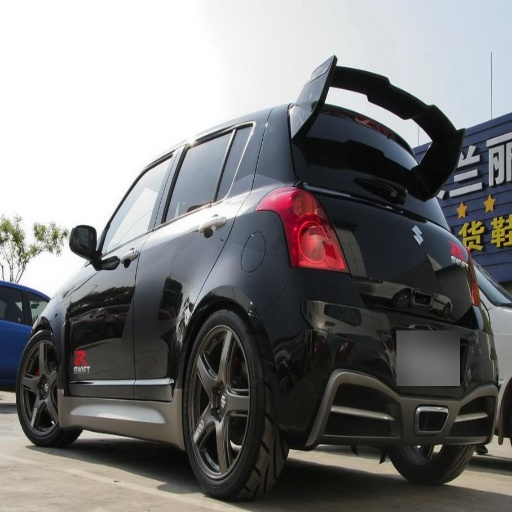back_bumper: (254, 286, 495, 444)
back_glass: (385, 223, 449, 274)
back_left_door: (134, 130, 232, 405)
trunk: (346, 280, 454, 370)
